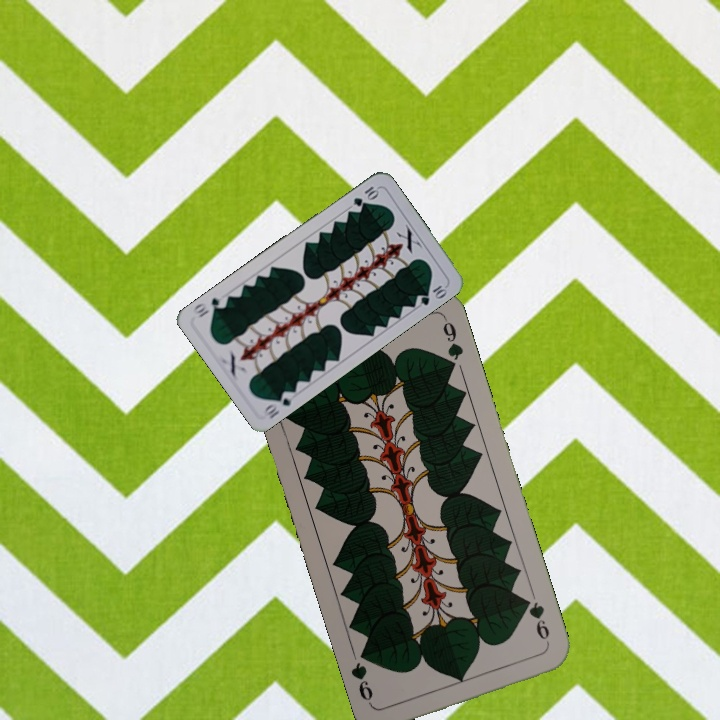G10: (260, 386, 298, 421), (349, 182, 382, 209)
G9: (519, 594, 553, 649)
